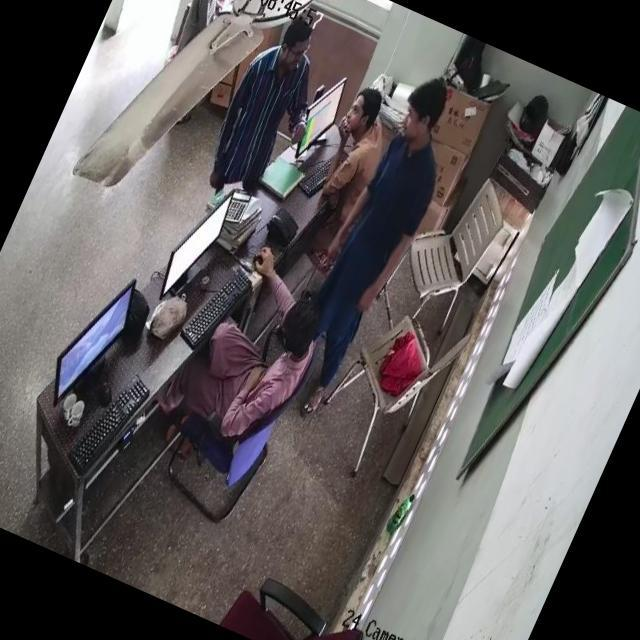person: (293, 82, 459, 386), (186, 280, 324, 446), (206, 18, 326, 189), (300, 74, 418, 239)
